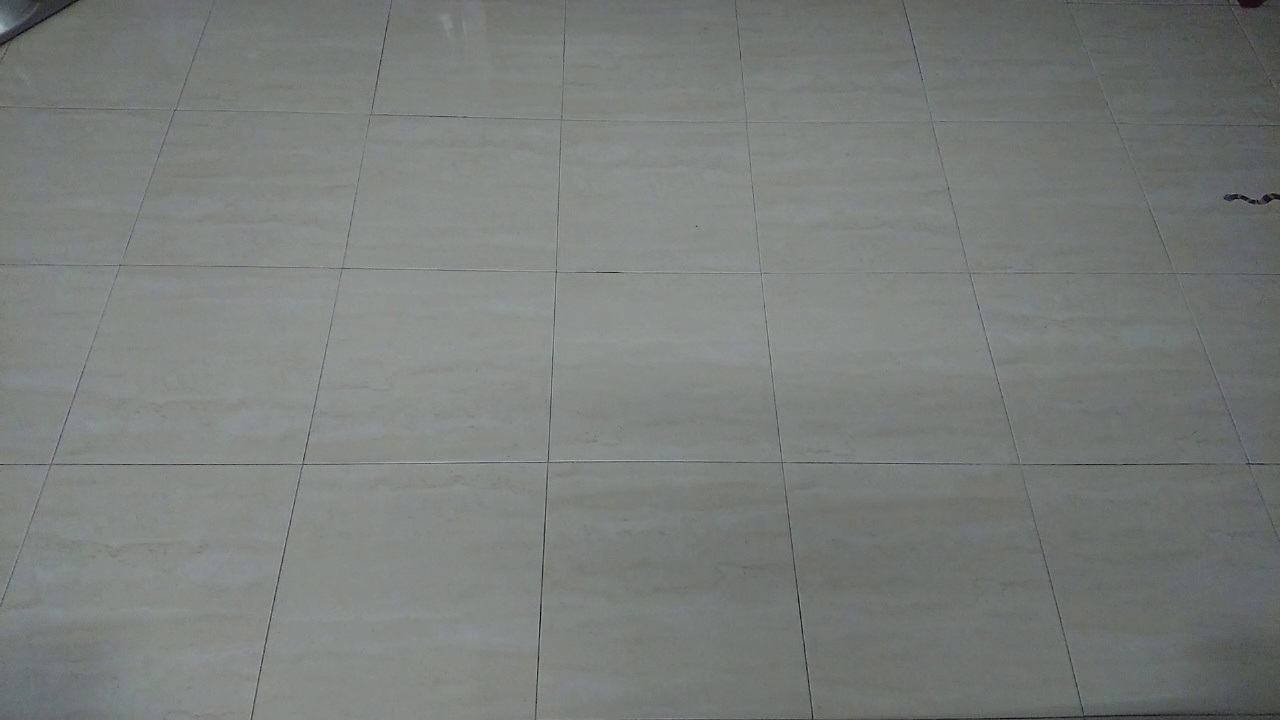snake: (1216, 178, 1280, 218)
